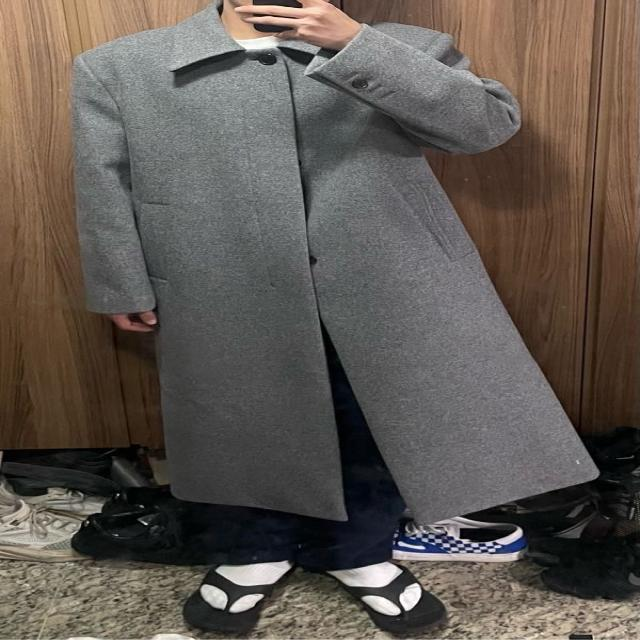coat: (70, 0, 596, 521)
cottonpants: (215, 323, 397, 570)
